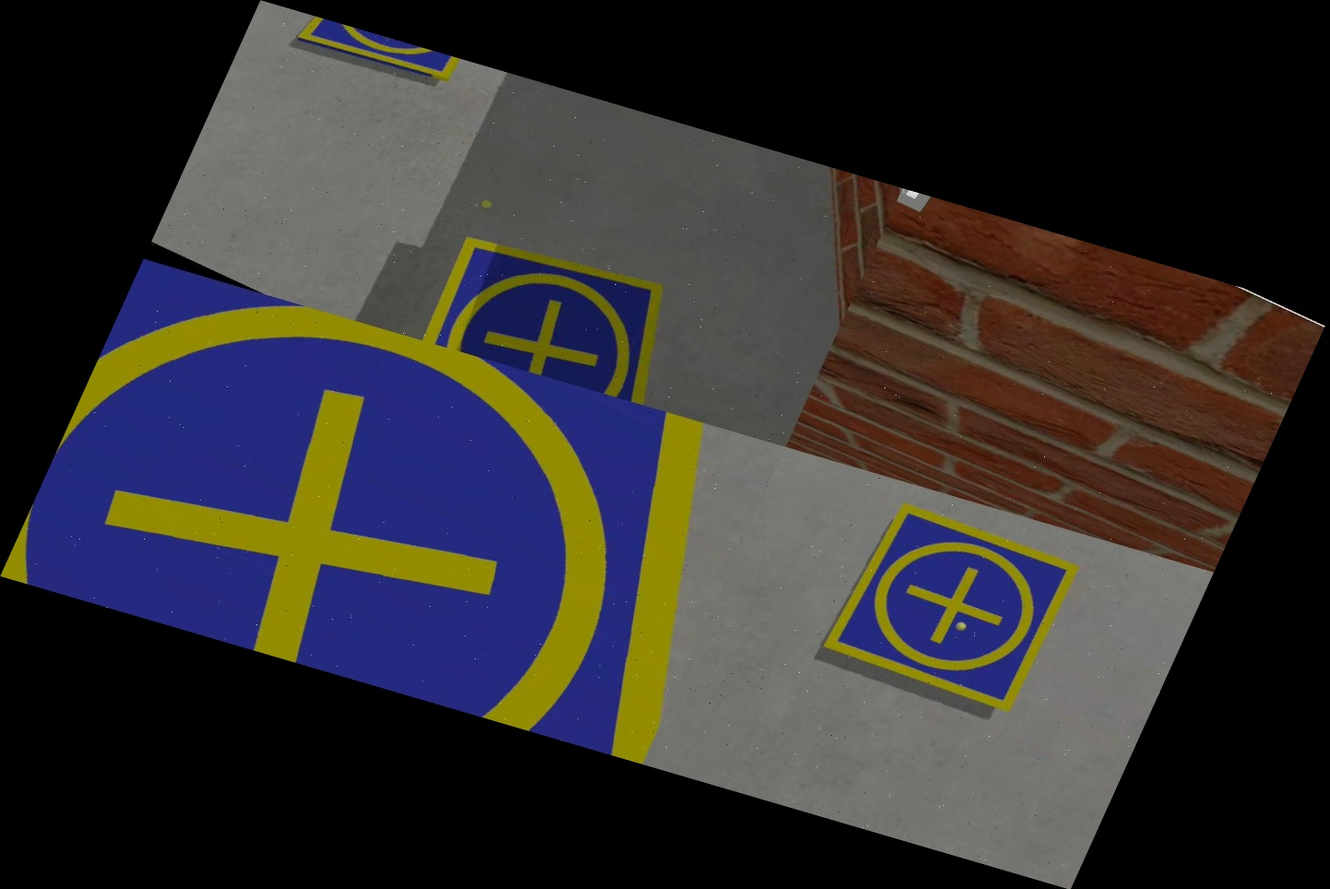small_base: (0, 259, 785, 764), (789, 479, 1122, 744), (394, 196, 759, 421), (282, 13, 479, 112)
